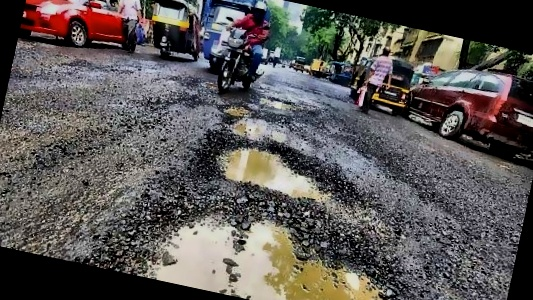pothole: (99, 170, 431, 300), (195, 127, 351, 205), (228, 113, 269, 139), (256, 92, 300, 115), (219, 97, 255, 121)
